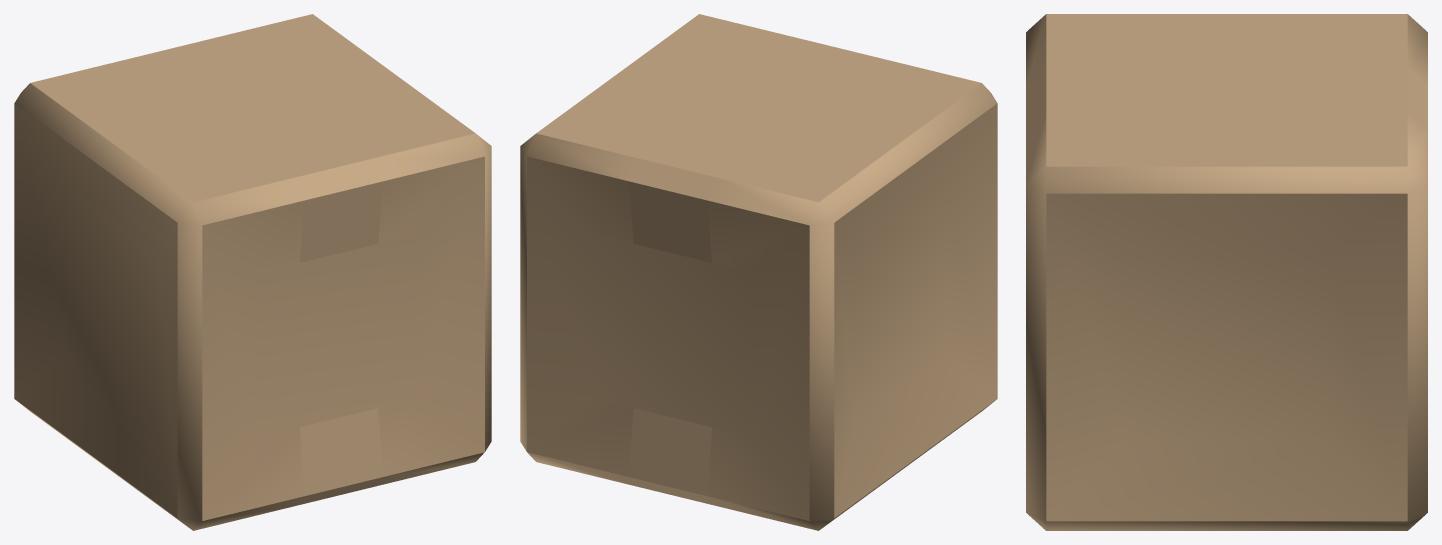
The model's file is supply_crate.glb.
3 renders of one model, left to right at view 1: azimuth 30°, elevation 25°; view 2: azimuth 150°, elevation 25°; view 3: azimuth 270°, elevation 25°, orthographic. The views are drawn at different scales.
Parts seen in each view (by area): view 1: box; view 2: box; view 3: box.
Boxes of the visible parts, <box> form: box: <box>14,14,491,530</box>; box: <box>520,14,997,530</box>; box: <box>1026,14,1427,530</box>.
Size of the model in its own units: 0.25 by 0.25 by 0.25.
